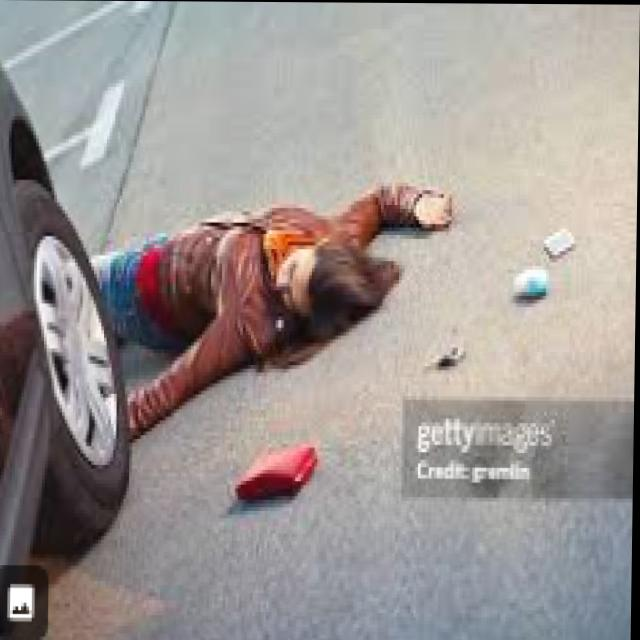injury: (268, 237, 406, 356)
no injury: (76, 166, 494, 420)
